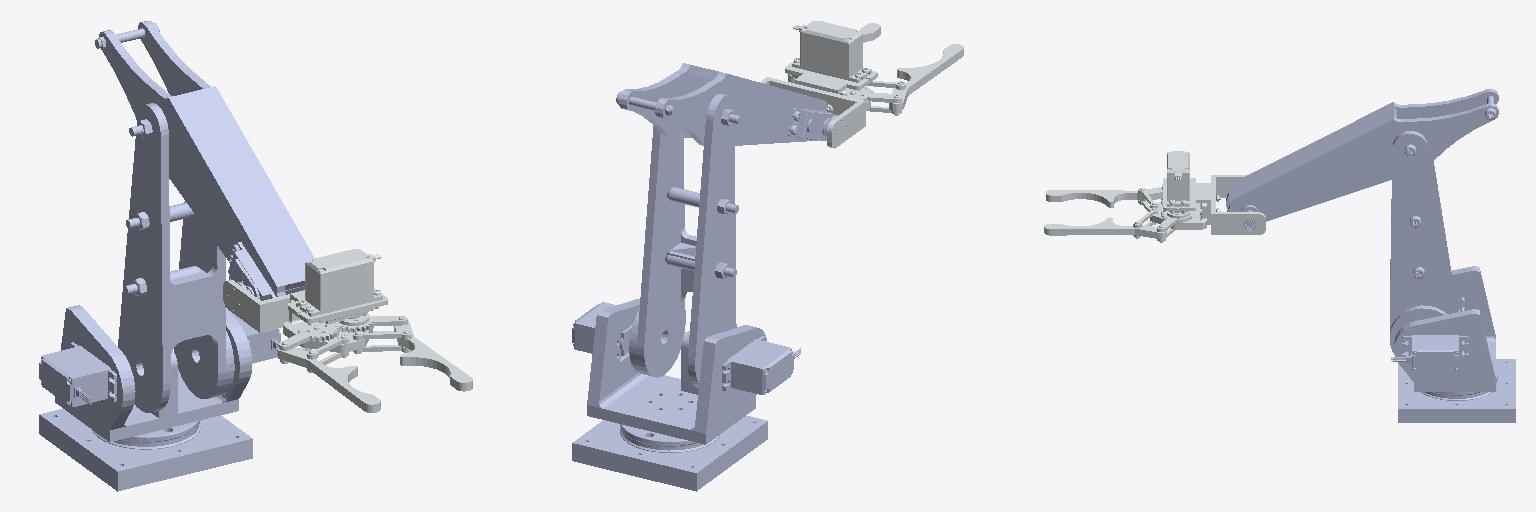
The robot description file, URDF, robot "marm":
<?xml version="1.0" ?>
<!-- =================================================================================== -->
<!-- |    This document was autogenerated by xacro from [local-path]/agv/src/arm/urdf/arm.xacro | -->
<!-- |    EDITING THIS FILE BY HAND IS NOT RECOMMENDED                                 | -->
<!-- =================================================================================== -->
<!-- This URDF was automatically created by SolidWorks to URDF Exporter! Originally created by [author] ([email redacted]) 
     Commit Version: 1.6.0-4-g7f85cfe  Build Version: 1.6.7995.38578
     For more information, please see http://wiki.ros.org/sw_urdf_exporter -->
<robot name="marm">
    <link name="base_footprint">
        <visual>
            <origin rpy="0 0 0" xyz="0 0 0" />
            <mass value="1.8" />
            <inertia ixx="0.000000000000" ixy="0.000000000000" ixz="0.000000000000" iyy="0.000000000000" iyz="0.000000000000" izz="0.000000000000" />
            <geometry>
                <box size="0.01 0.01 0.01" />
            </geometry>
        </visual>
    </link>
    <link name="base_link">
        <inertial>
            <origin rpy="0 0 0" xyz="2.4100810754784E-09 -1.44493238359068E-08 0.00916688701767407" />
            <mass value="1.48135898316253" />
            <inertia ixx="0.000124542297357122" ixy="9.76806810262928E-13" ixz="1.70313497348212E-12" iyy="0.000124542109078445" iyz="-1.05555456349748E-11" izz="0.000244817372701188" />
        </inertial>
        <visual>
            <origin rpy="0 0 0" xyz="0 0 0" />
            <geometry>
                <mesh filename="package://arm/meshes/base_link.STL" />
            </geometry>
            <material name="">
                <color rgba="0.792156862745098 0.819607843137255 0.933333333333333 1" />
            </material>
        </visual>
        <collision>
            <origin rpy="0 0 0" xyz="0 0 0" />
            <geometry>
                <mesh filename="package://arm/meshes/base_link.STL" />
            </geometry>
        </collision>
    </link>
    <joint name="bsaefront" type="fixed">
        <origin rpy="0 0 0" xyz="0 0 0.01" />
        <parent link="base_footprint" />
        <child link="base_link" />
    </joint>
    <link name="zhuantai">
        <inertial>
            <origin rpy="0 0 0" xyz="-0.011999 0.055179 -8.8289E-05" />
            <mass value="0.3267" />
            <inertia ixx="0.00027279" ixy="4.8006E-06" ixz="-3.1478E-12" iyy="0.00029875" iyz="1.6978E-11" izz="0.00015578" />
        </inertial>
        <visual>
            <origin rpy="0 0 0" xyz="0 0 0" />
            <geometry>
                <mesh filename="package://arm/meshes/zhuantai.STL" />
            </geometry>
            <material name="">
                <color rgba="0.79608 0.82353 0.93725 1" />
            </material>
        </visual>
        <collision>
            <origin rpy="0 0 0" xyz="0 0 0" />
            <geometry>
                <mesh filename="package://arm/meshes/zhuantai.STL" />
            </geometry>
        </collision>
    </link>
    <joint name="joint1" type="continuous">
        <origin rpy="1.5707963267949 0 1.5707963267949" xyz="0 0 0.00499999999999986" />
        <parent link="base_link" />
        <child link="zhuantai" />
        <axis xyz="0 -1 0" />
    </joint>
    <link name="bigarm">
        <inertial>
            <origin rpy="0 0 0" xyz="-0.00100337836934973 0.0780090299098532 -0.00615261150661628" />
            <mass value="0.000245587294450206" />
            <inertia ixx="0.000557532152213457" ixy="-2.8011208990669E-05" ixz="2.47917280447207E-06" iyy="0.000119109076882338" iyz="2.90800840435598E-05" izz="0.000609426584131222" />
        </inertial>
        <visual>
            <origin rpy="0 0 0" xyz="0 0 0" />
            <geometry>
                <mesh filename="package://arm/meshes/bigarm.STL" />
            </geometry>
            <material name="">
                <color rgba="0.796078431372549 0.823529411764706 0.937254901960784 1" />
            </material>
        </visual>
        <collision>
            <origin rpy="0 0 0" xyz="0 0 0" />
            <geometry>
                <mesh filename="package://arm/meshes/bigarm.STL" />
            </geometry>
        </collision>
    </link>
    <joint name="joint2" type="continuous">
        <origin rpy="0 1.5707963267949 0" xyz="-0.0279693093597577 0.0656993491435481 0.00249999999948774" />
        <parent link="zhuantai" />
        <child link="bigarm" />
        <axis xyz="-1 0 0" />
    </joint>
    <link name="smallarm">
        <inertial>
            <origin rpy="0 0 0" xyz="0.0235285609294794 -0.0176352263920943 -0.0499678766464063" />
            <mass value="0.000170564618114856" />
            <inertia ixx="0.000509722891714311" ixy="-3.31104759721371E-06" ixz="-6.12442935870747E-06" iyy="0.000445892301979633" iyz="-0.000164537890363107" izz="0.000119131575987572" />
        </inertial>
        <visual>
            <origin rpy="0 0 0" xyz="0 0 0" />
            <geometry>
                <mesh filename="package://arm/meshes/smallarm.STL" />
            </geometry>
            <material name="">
                <color rgba="0.796078431372549 0.823529411764706 0.937254901960784 1" />
            </material>
        </visual>
        <collision>
            <origin rpy="0 0 0" xyz="0 0 0" />
            <geometry>
                <mesh filename="package://arm/meshes/smallarm.STL" />
            </geometry>
        </collision>
    </link>
    <joint name="joint3" type="continuous">
        <origin rpy="0 0 0" xyz="-0.0239999999994174 0.174636899932102 -0.0112673502706042" />
        <parent link="bigarm" />
        <child link="smallarm" />
        <axis xyz="-1 0 0" />
    </joint>
    <link name="claw">
        <inertial>
            <origin rpy="0 0 0" xyz="-0.0396667445331423 -0.00212195225737732 0.0602292529686369" />
            <mass value="0.00010714008449797" />
            <inertia ixx="2.62267238937695E-05" ixy="-4.54171419305977E-08" ixz="-2.52768917102453E-07" iyy="5.10979075359834E-05" iyz="7.18279379282775E-07" izz="2.83714371448851E-05" />
        </inertial>
        <visual>
            <origin rpy="0 0 0" xyz="0 0 0" />
            <geometry>
                <mesh filename="package://arm/meshes/claw.STL" />
            </geometry>
            <material name="">
                <color rgba="0.898039215686275 0.917647058823529 0.929411764705882 1" />
            </material>
        </visual>
        <collision>
            <origin rpy="0 0 0" xyz="0 0 0" />
            <geometry>
                <mesh filename="package://arm/meshes/claw.STL" />
            </geometry>
        </collision>
    </link>
    <joint name="joint4" type="continuous">
        <origin rpy="3.14159265358979 0 3.14159265358979" xyz="-0.0160499999978932 -0.0625839738635943 -0.136320380776858" />
        <parent link="smallarm" />
        <child link="claw" />
        <axis xyz="-1 0 0" />
    </joint>
    <gazebo>
        <plugin filename="libgazebo_ros_control.so" name="control" />
        <plugin name="gazebo_ros_control">
            <robotNamespace>/</robotNamespace>
        </plugin>
    </gazebo>
    <transmission name="trans_joint1">
        <type>transmission_interface/SimpleTransmission</type>
        <joint name="joint1">
            <hardwareInterface>hardware_interface/EffortJointInterface</hardwareInterface>
        </joint>
        <actuator name="joint1_motor">
            <hardwareInterface>hardware_interface/EffortJointInterface</hardwareInterface>
            <mechanicalReduction>1</mechanicalReduction>
        </actuator>
    </transmission>
    <transmission name="trans_joint2">
        <type>transmission_interface/SimpleTransmission</type>
        <joint name="joint2">
            <hardwareInterface>hardware_interface/EffortJointInterface</hardwareInterface>
        </joint>
        <actuator name="joint2_motor">
            <hardwareInterface>hardware_interface/EffortJointInterface</hardwareInterface>
            <mechanicalReduction>1</mechanicalReduction>
        </actuator>
    </transmission>
    <transmission name="trans_joint3">
        <type>transmission_interface/SimpleTransmission</type>
        <joint name="joint3">
            <hardwareInterface>hardware_interface/EffortJointInterface</hardwareInterface>
        </joint>
        <actuator name="joint3_motor">
            <hardwareInterface>hardware_interface/EffortJointInterface</hardwareInterface>
            <mechanicalReduction>1</mechanicalReduction>
        </actuator>
    </transmission>
    <transmission name="trans_joint4">
        <type>transmission_interface/SimpleTransmission</type>
        <joint name="joint4">
            <hardwareInterface>hardware_interface/EffortJointInterface</hardwareInterface>
        </joint>
        <actuator name="joint4_motor">
            <hardwareInterface>hardware_interface/EffortJointInterface</hardwareInterface>
            <mechanicalReduction>1</mechanicalReduction>
        </actuator>
    </transmission>
</robot>

--- Render facts (derived) ---
The picture shows the robot from 3 angles, left to right: view 1: azimuth 30°, elevation 25°; view 2: azimuth 150°, elevation 25°; view 3: azimuth 270°, elevation 25°; orthographic projection.
Robot: marm — 6 links, 5 joints (4 continuous, 1 fixed); root link base_footprint; default pose: every joint at zero.
Links seen in each view (by area): view 1: bigarm, smallarm, claw, zhuantai, base_link; view 2: bigarm, zhuantai, smallarm, claw, base_link; view 3: smallarm, bigarm, zhuantai, claw, base_link.
Boxes of the visible links, x1,y1,x2,y2 form: bigarm: [118, 103, 234, 412]; smallarm: [95, 21, 314, 300]; claw: [223, 249, 472, 412]; zhuantai: [39, 305, 280, 441]; base_link: [39, 409, 252, 491]; bigarm: [629, 94, 741, 387]; zhuantai: [572, 299, 800, 444]; smallarm: [616, 63, 838, 145]; claw: [760, 21, 963, 148]; base_link: [572, 415, 767, 491]; smallarm: [1226, 89, 1498, 229]; bigarm: [1390, 131, 1457, 354]; zhuantai: [1391, 266, 1495, 391]; claw: [1044, 151, 1265, 242]; base_link: [1398, 359, 1515, 422].
Size in the robot's own frame: 0.1562 by 0.3998 by 0.2986 metres.
Meshes: 5 distinct files referenced, 5 mesh visuals loaded (5 binary STL).